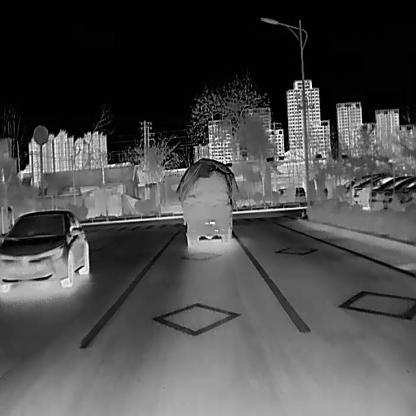car: (0, 208, 88, 292), (352, 174, 392, 208), (381, 176, 415, 208), (294, 186, 305, 197)
truck: (176, 156, 238, 247)
